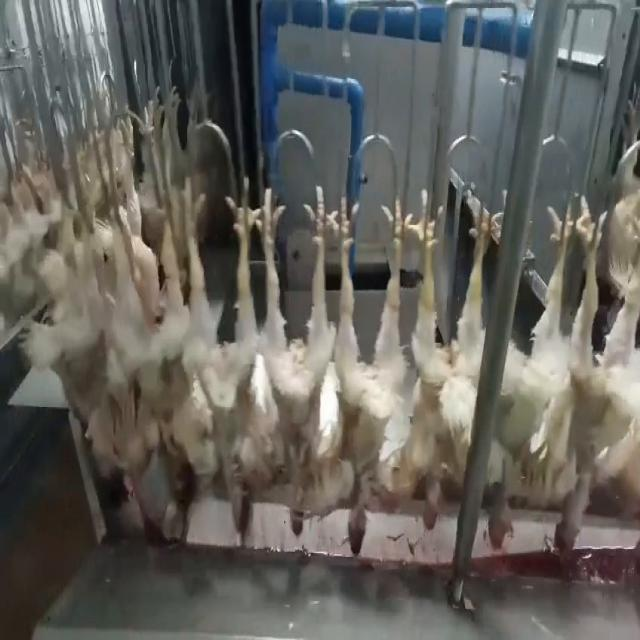chicken: (556, 174, 640, 558), (486, 195, 577, 549), (328, 191, 411, 562), (406, 189, 495, 532), (250, 186, 334, 539), (178, 177, 255, 533), (110, 186, 180, 526), (73, 194, 113, 470)
